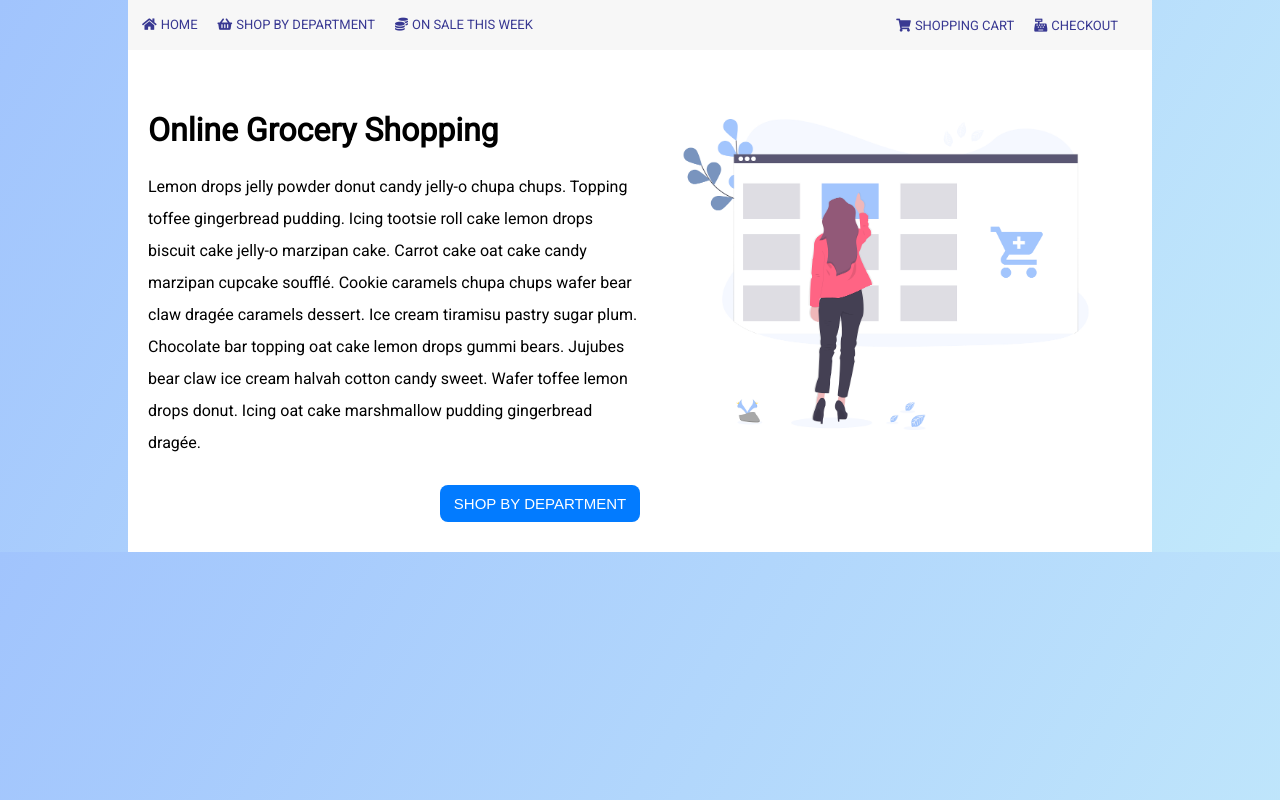
it: Navigation Tests › Visits the home path and tests the "Checkout" navigation link
Click the link with class "checkout" at (1076, 26), box [1034,18,1118,33]
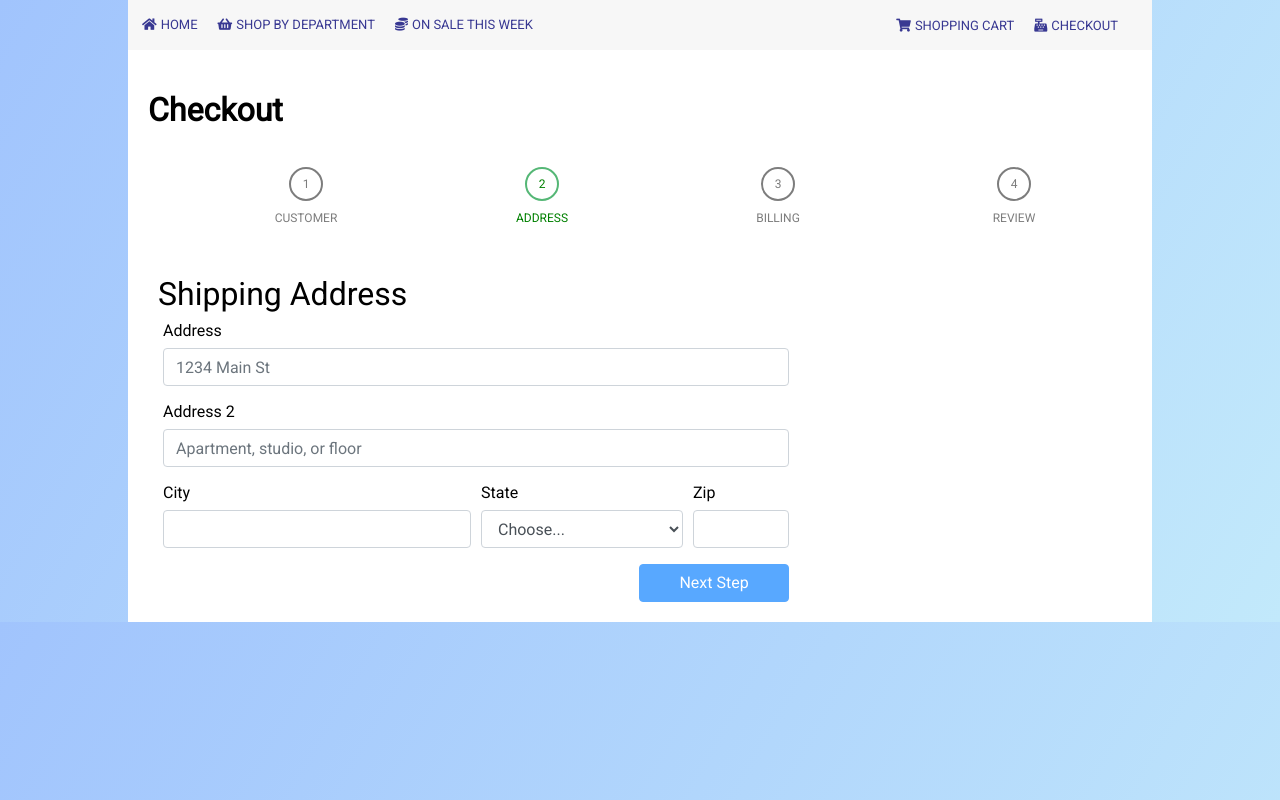
Result: the heading "Checkout" is shown at [148,91,283,129]
